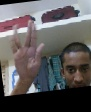hand: (9, 19, 45, 82)
